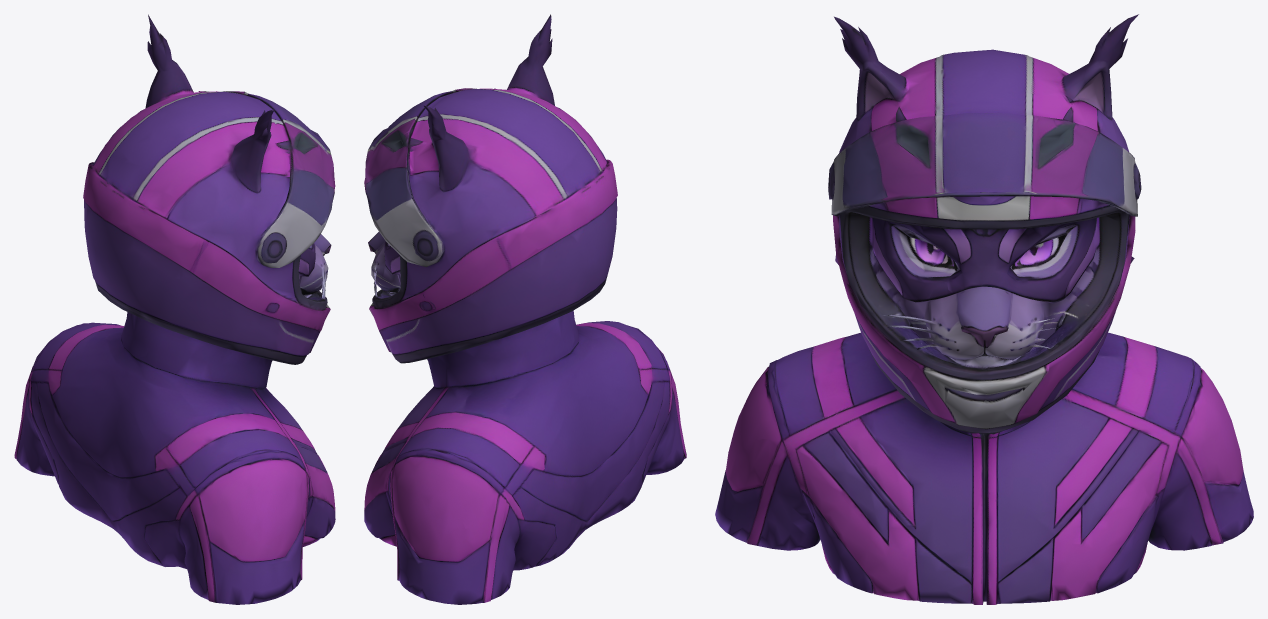
File: shadow.glb
3 views of the same model, side by side, from view 1: azimuth 30°, elevation 25°; view 2: azimuth 150°, elevation 25°; view 3: azimuth 270°, elevation 25° (orthographic). The views are drawn at different scales.
Parts seen in each view (by area): view 1: tripo_node_0acd2a8e-7edc-4f3c-970b-abfe5ea554f3; view 2: tripo_node_0acd2a8e-7edc-4f3c-970b-abfe5ea554f3; view 3: tripo_node_0acd2a8e-7edc-4f3c-970b-abfe5ea554f3.
Part boxes in pixels (x1=…): tripo_node_0acd2a8e-7edc-4f3c-970b-abfe5ea554f3: x1=14, y1=14, x2=335, y2=604; tripo_node_0acd2a8e-7edc-4f3c-970b-abfe5ea554f3: x1=364, y1=14, x2=686, y2=604; tripo_node_0acd2a8e-7edc-4f3c-970b-abfe5ea554f3: x1=715, y1=14, x2=1253, y2=604.
Bounding box in the file's own units: 0.5439 × 1 × 0.9126.
Materials: 1 (1 with a texture image).
